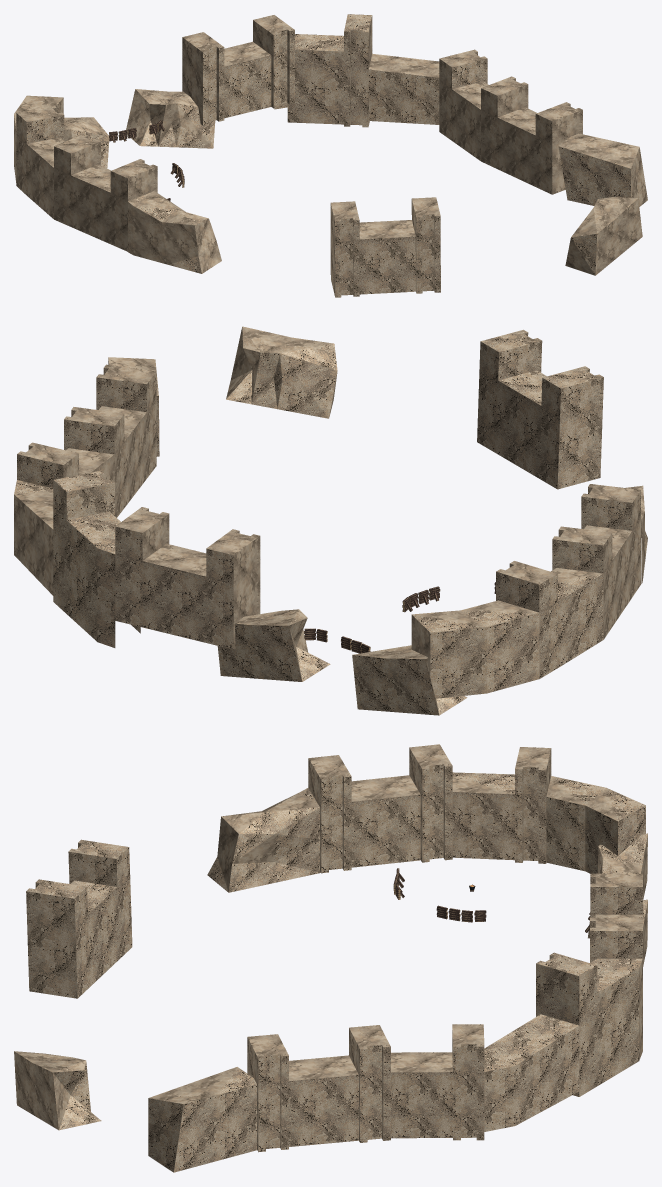
Rendered from mainmenu.fbx.
3 views of the same model, one above another, from view 1: azimuth 30°, elevation 25°; view 2: azimuth 150°, elevation 25°; view 3: azimuth 270°, elevation 25° (orthographic). The views are drawn at different scales.
Visible parts, largest first — view 1: castlewall.005, castlewall.003, castlewall.006, castlewall.009, castlewall, castlewall.004, castlewall.008, castlewall.010, castlewall.007, castlewall.012, castlewall.015, castlewall.002 (+2 smaller); view 2: castlewall.003, castlewall.005, castlewall.001, castlewall.009, castlewall.006, castlewall, castlewall.012, castlewall.002, castlewall.015, castlewall.014, castlewall.010, castlewall.007 (+1 smaller); view 3: castlewall, castlewall.006, castlewall.005, castlewall.009, castlewall.002, castlewall.007, castlewall.008, castlewall.010, castlewall.004, castlewall.001, castlewall.012, castlewall.003 (+1 smaller).
Part boxes in pixels (box(x1,y1,x2,y2)): castlewall.005: box(330, 197, 440, 297); castlewall.003: box(182, 15, 294, 125); castlewall.006: box(481, 76, 582, 194); castlewall.009: box(274, 14, 372, 127); castlewall: box(54, 134, 157, 251); castlewall.004: box(128, 191, 221, 273); castlewall.008: box(558, 133, 647, 206); castlewall.010: box(369, 53, 439, 124); castlewall.007: box(439, 49, 488, 160); castlewall.012: box(565, 197, 642, 275); castlewall.015: box(126, 89, 215, 148); castlewall.002: box(16, 105, 64, 218); castlewall.003: box(115, 507, 260, 649); castlewall.005: box(477, 329, 603, 489); castlewall.001: box(411, 600, 539, 698); castlewall.009: box(53, 470, 140, 647); castlewall.006: box(64, 364, 156, 517); castlewall: box(552, 484, 640, 639); castlewall.012: box(226, 326, 337, 418); castlewall.002: box(496, 561, 603, 678); castlewall.015: box(217, 609, 330, 681); castlewall.014: box(352, 645, 467, 715); castlewall.010: box(14, 480, 53, 595); castlewall.007: box(17, 442, 114, 487); castlewall: box(308, 744, 452, 873); castlewall.006: box(247, 1025, 390, 1152); castlewall.005: box(26, 839, 132, 998); castlewall.009: box(536, 952, 642, 1096); castlewall.002: box(452, 747, 551, 863); castlewall.007: box(391, 1024, 484, 1140); castlewall.008: box(148, 1067, 256, 1172); castlewall.010: box(484, 1014, 579, 1131); castlewall.004: box(207, 787, 320, 892); castlewall.001: box(546, 776, 645, 873); castlewall.012: box(14, 1051, 101, 1130); castlewall.003: box(590, 873, 642, 962).
Size of what is drawn, in the model's own units: 5280 by 1030 by 4644.
3 materials, 3 textured.
